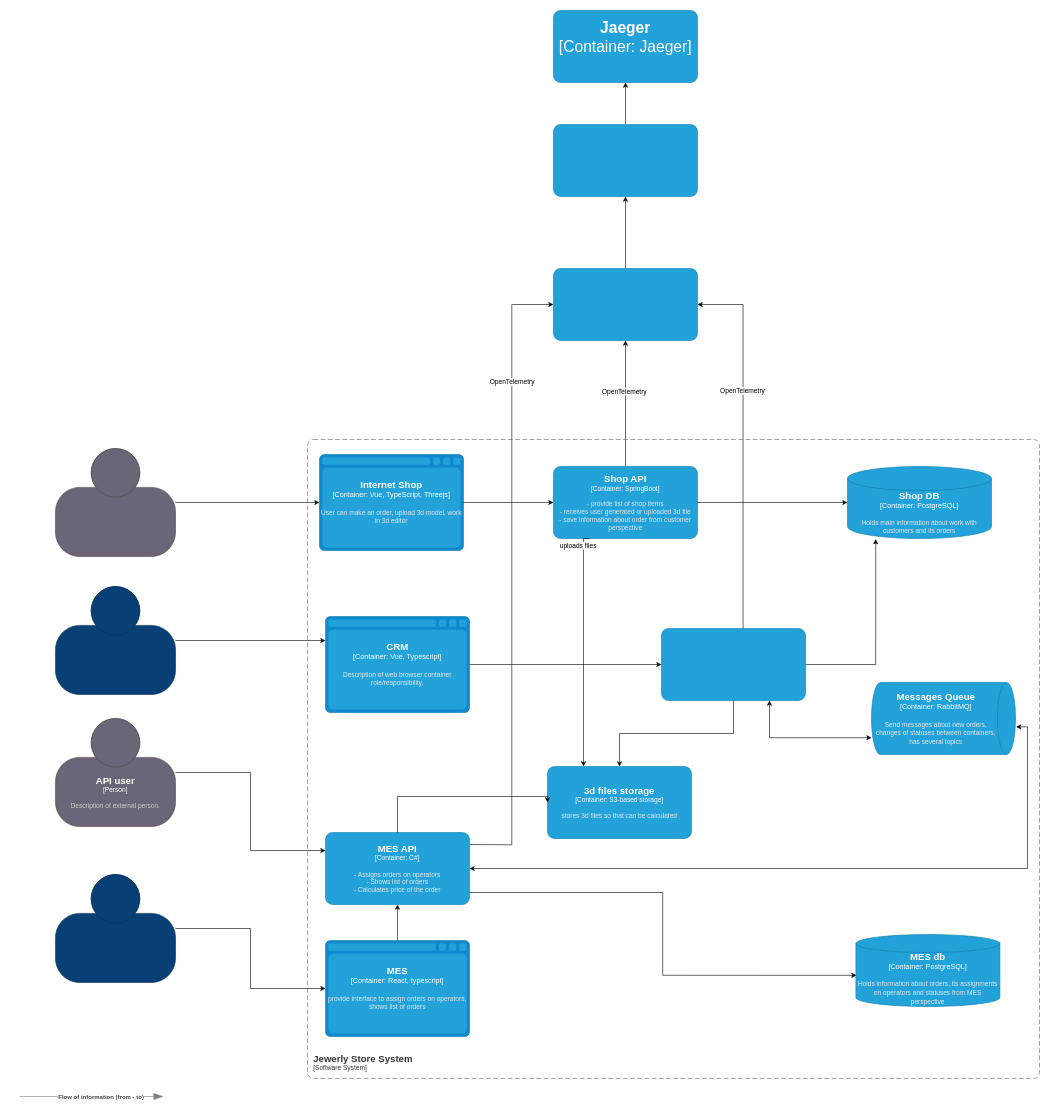
Some shapes in this 1050 by 1117 pixel diagram are drawn without their labels. Here are the shapes that lost their labels. From the top down, the centre of each, then its label:
At (x=625, y=160): "OpenSearch [Container: OpenSearch]".
At (x=625, y=304): "FluentBit [Container: FluentBit]".
At (x=115, y=502): "Customer [Person] Description of external person.".
At (x=115, y=640): "Seller [Person] Operates with order, confirms manufacturing for the user".
At (x=733, y=664): "CRM API [Container: SpringBoot] Description of container role/responsibility.".
At (x=115, y=928): "Operator [Person] Takes order in work, manufactures jewerly".
